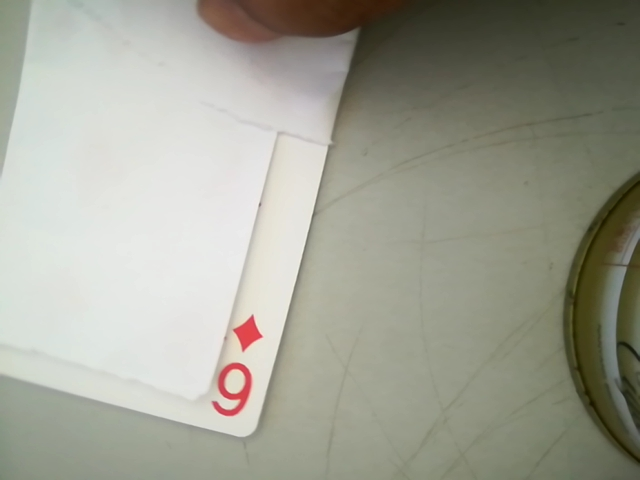fk 6: (204, 300, 276, 431)
